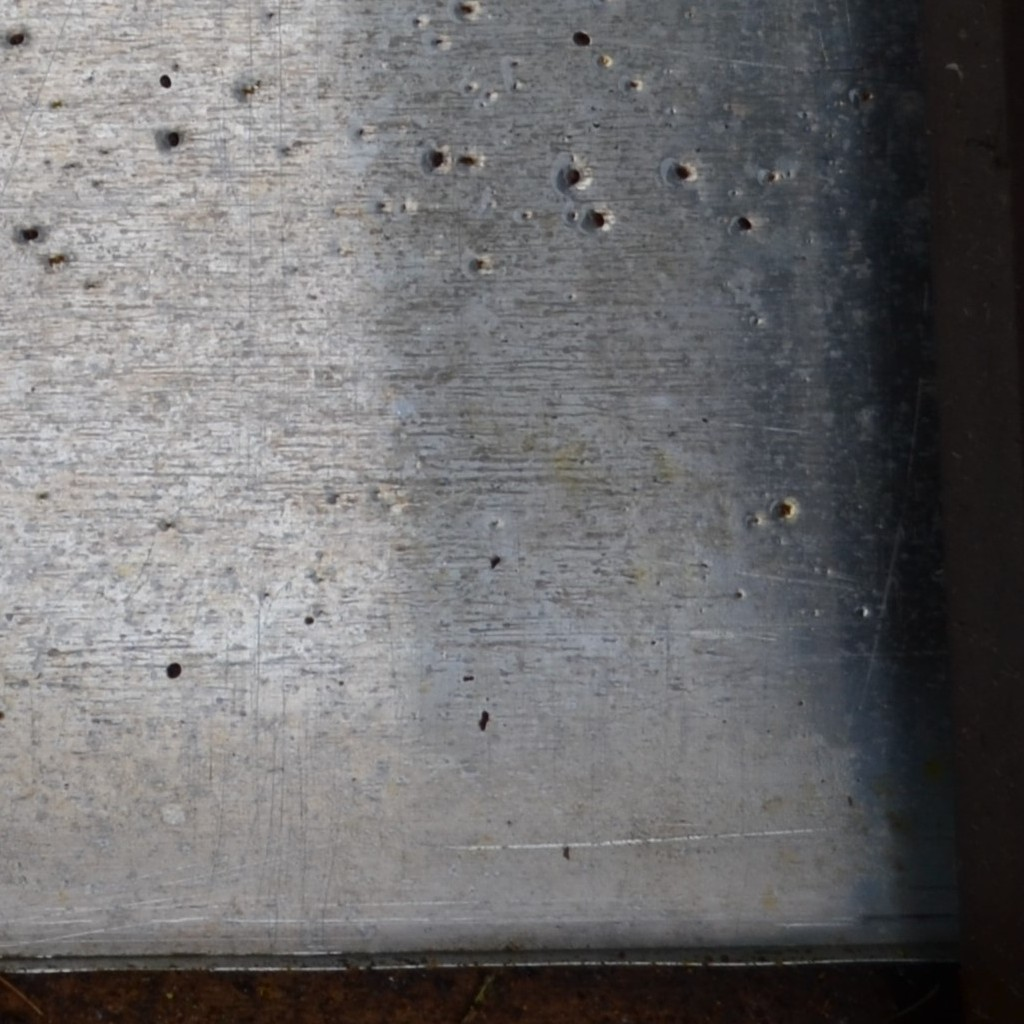varroa: (584, 200, 607, 234), (735, 210, 759, 235), (570, 26, 594, 48), (422, 149, 447, 170), (163, 656, 182, 683), (19, 222, 42, 241), (164, 126, 182, 149), (7, 29, 26, 49), (158, 69, 172, 91)
